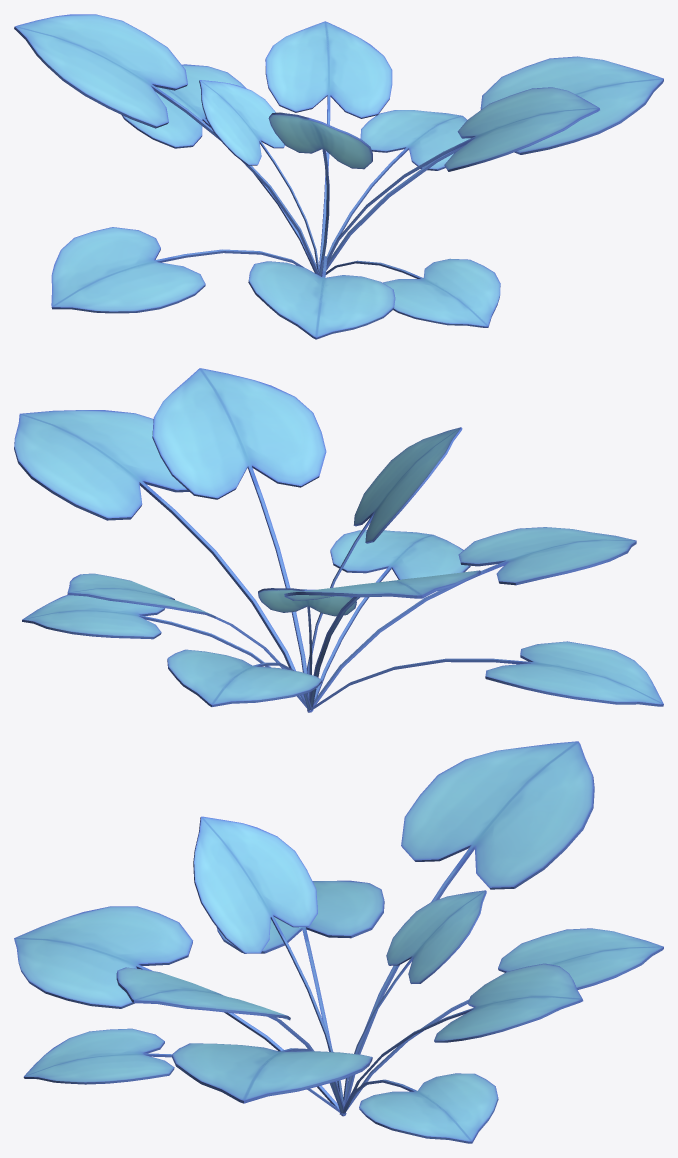
Rendered from plant2_blue.fbx.
The picture shows the model from 3 angles, top to bottom: view 1: azimuth 30°, elevation 25°; view 2: azimuth 150°, elevation 25°; view 3: azimuth 270°, elevation 25°; orthographic projection. The views are drawn at different scales.
Parts seen in each view (by area): view 1: pPlane317, pPlane320, pPlane323, pPlane315, pPlane316, pPlane324, pPlane322, pPlane325, pPlane318, pPlane321, pPlane319; view 2: pPlane324, pPlane315, pPlane320, pPlane316, pPlane321, pPlane322, pPlane319, pPlane318, pPlane317, pPlane323, pPlane325; view 3: pPlane317, pPlane319, pPlane316, pPlane315, pPlane318, pPlane323, pPlane321, pPlane322, pPlane325, pPlane320, pPlane324.
Boxes of the visible parts, left/top/right/bottom form: pPlane317: left=14, top=14, right=318, bottom=274; pPlane320: left=51, top=227, right=304, bottom=313; pPlane323: left=265, top=21, right=392, bottom=268; pPlane315: left=326, top=56, right=663, bottom=270; pPlane316: left=248, top=256, right=395, bottom=339; pPlane324: left=327, top=87, right=599, bottom=263; pPlane322: left=321, top=258, right=500, bottom=327; pPlane325: left=199, top=80, right=319, bottom=272; pPlane318: left=327, top=110, right=470, bottom=257; pPlane321: left=121, top=64, right=315, bottom=273; pPlane319: left=268, top=112, right=372, bottom=267; pPlane324: left=152, top=368, right=326, bottom=712; pPlane315: left=14, top=410, right=313, bottom=712; pPlane320: left=311, top=641, right=663, bottom=710; pPlane316: left=310, top=527, right=636, bottom=712; pPlane321: left=167, top=649, right=322, bottom=712; pPlane322: left=314, top=530, right=470, bottom=699; pPlane319: left=307, top=427, right=462, bottom=712; pPlane318: left=22, top=595, right=307, bottom=709; pPlane317: left=284, top=570, right=480, bottom=711; pPlane323: left=67, top=573, right=306, bottom=705; pPlane325: left=258, top=588, right=356, bottom=696; pPlane317: left=339, top=741, right=594, bottom=1115; pPlane319: left=193, top=816, right=345, bottom=1116; pPlane316: left=14, top=906, right=342, bottom=1116; pPlane315: left=172, top=1043, right=372, bottom=1113; pPlane318: left=342, top=1073, right=498, bottom=1143; pPlane323: left=341, top=963, right=583, bottom=1115; pPlane321: left=346, top=928, right=663, bottom=1111; pPlane322: left=23, top=1028, right=341, bottom=1113; pPlane325: left=343, top=890, right=486, bottom=1105; pPlane320: left=216, top=880, right=384, bottom=1114; pPlane324: left=116, top=967, right=346, bottom=1114.
Bounding box in the file's own units: 5.14 × 1.89 × 4.26.
